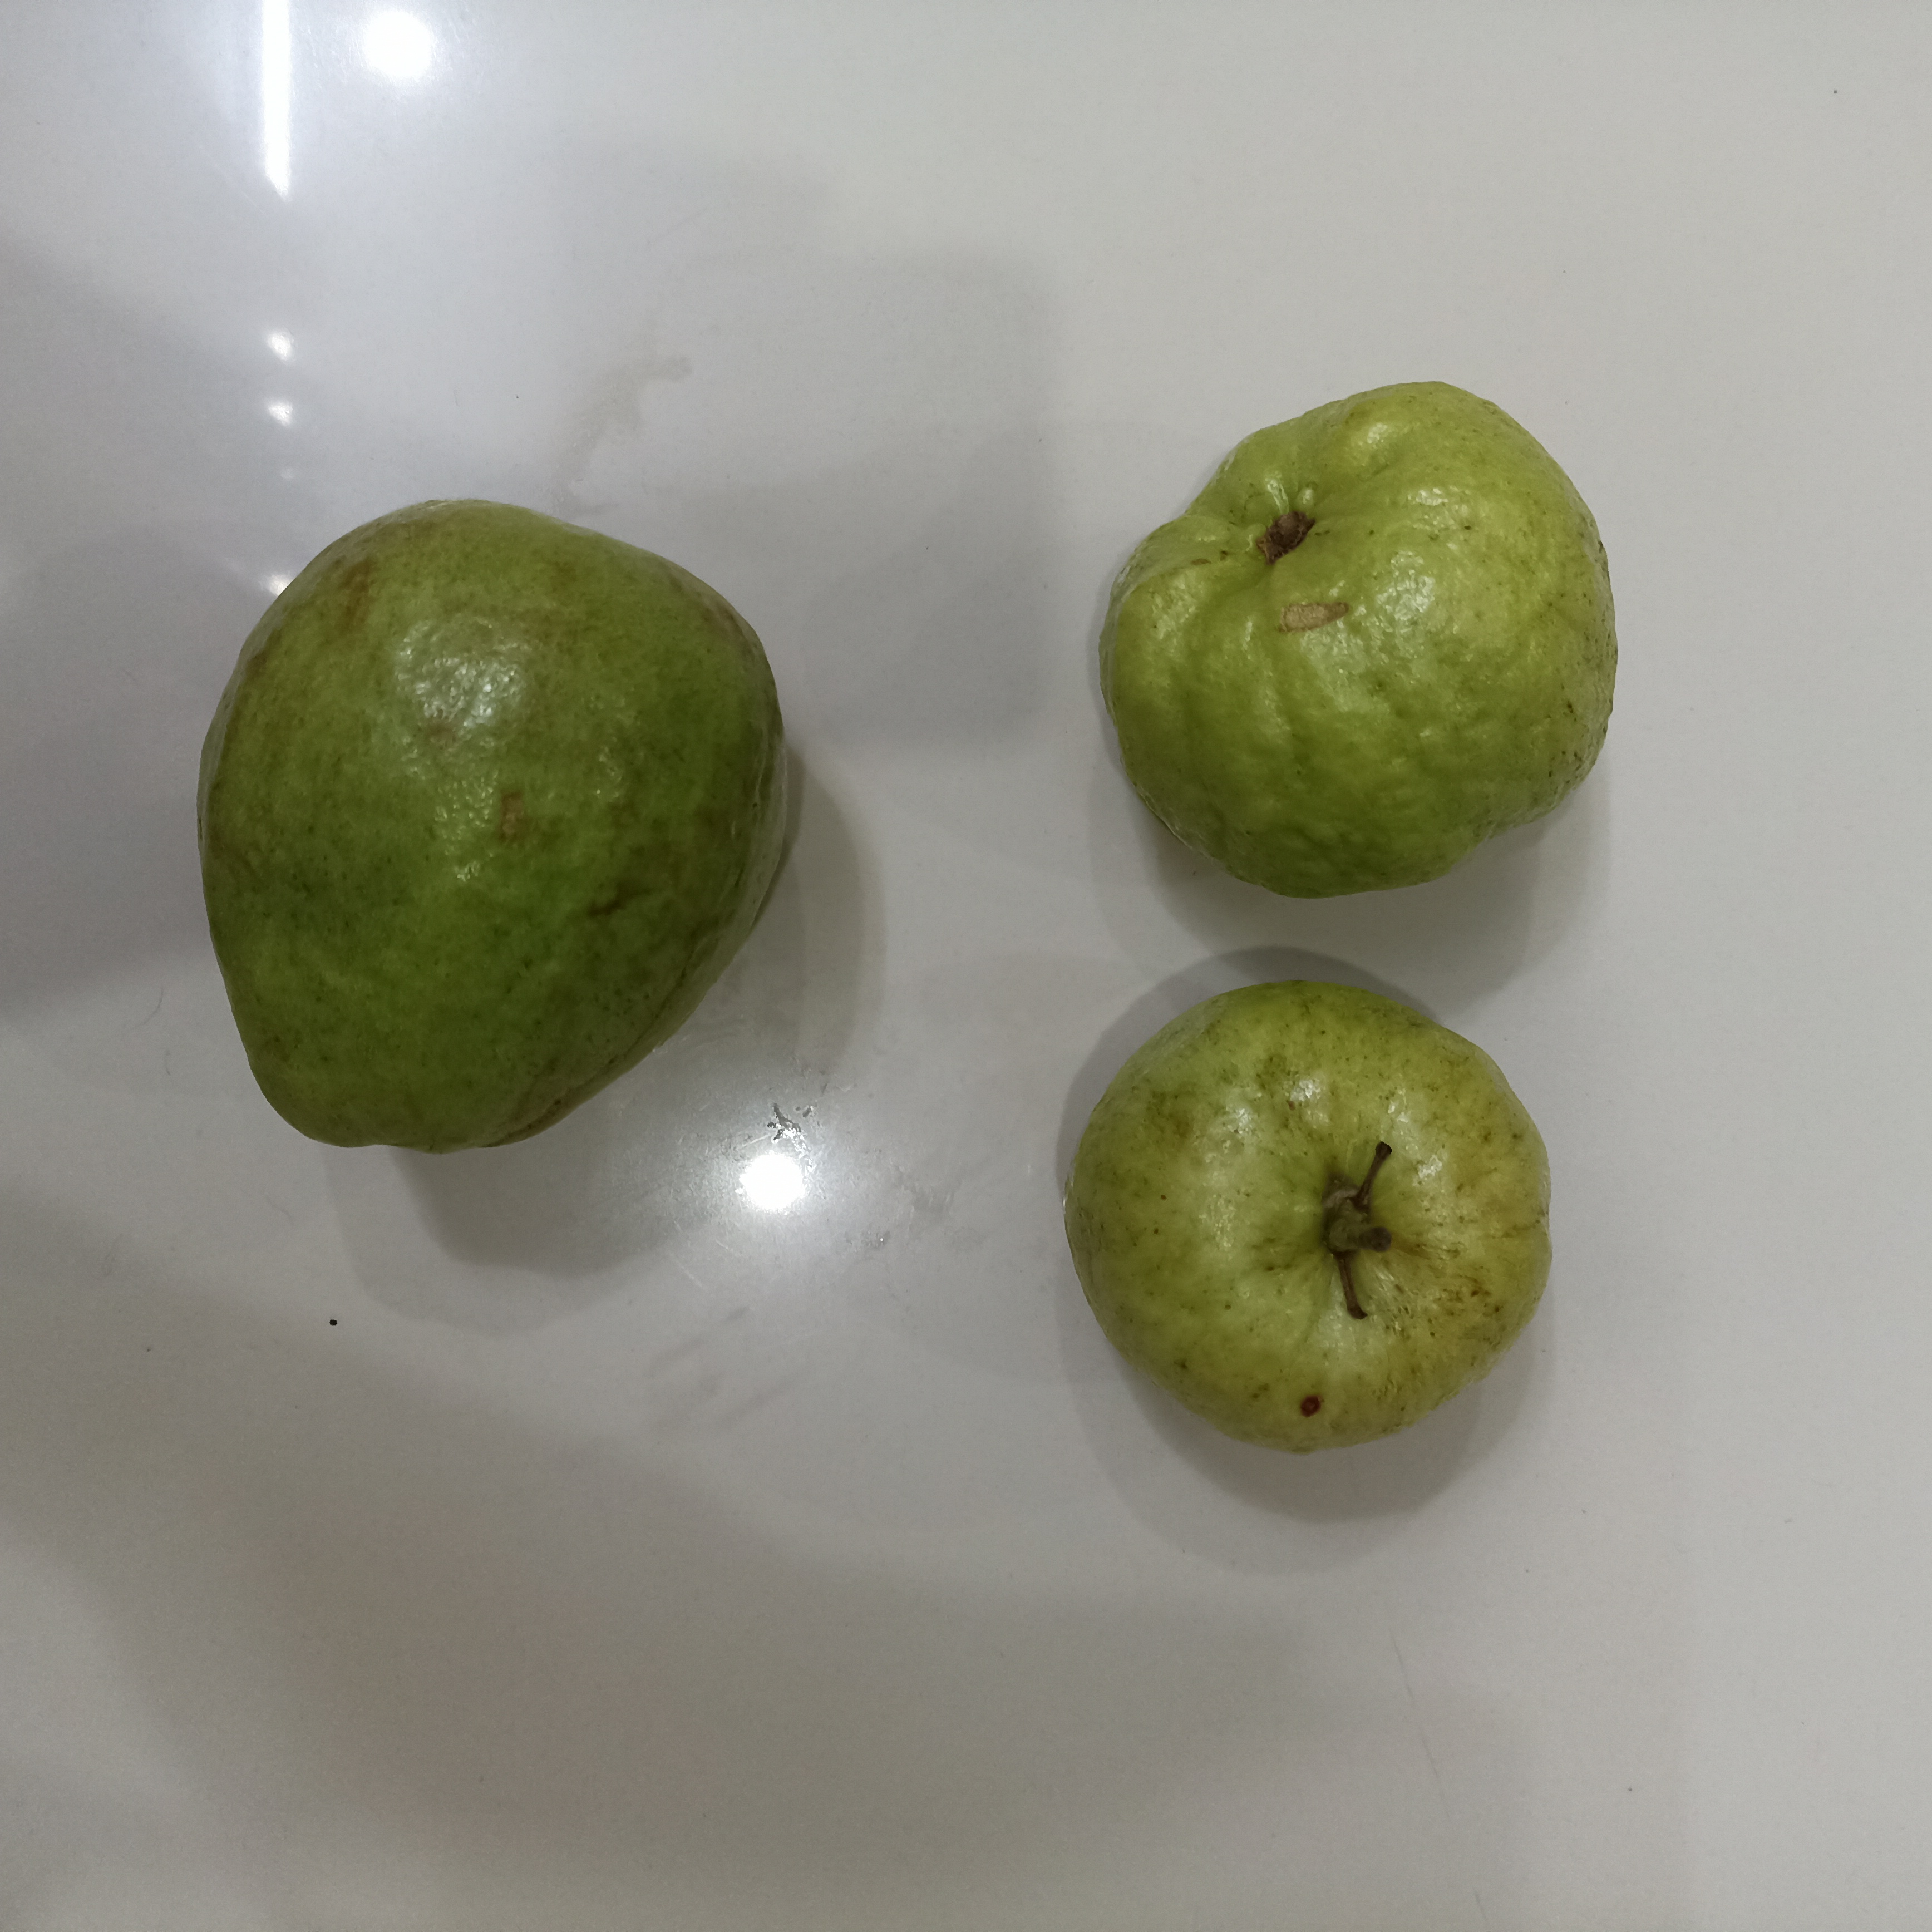Oi: (195, 499, 784, 1154), (1095, 375, 1617, 901), (1060, 978, 1559, 1467)
